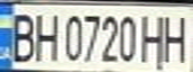0: (60, 10, 84, 63), (118, 11, 142, 64)
2: (100, 10, 121, 64)
7: (81, 10, 103, 63)
B: (3, 9, 39, 63)
H: (160, 10, 193, 64), (136, 11, 169, 63), (30, 8, 60, 62)
